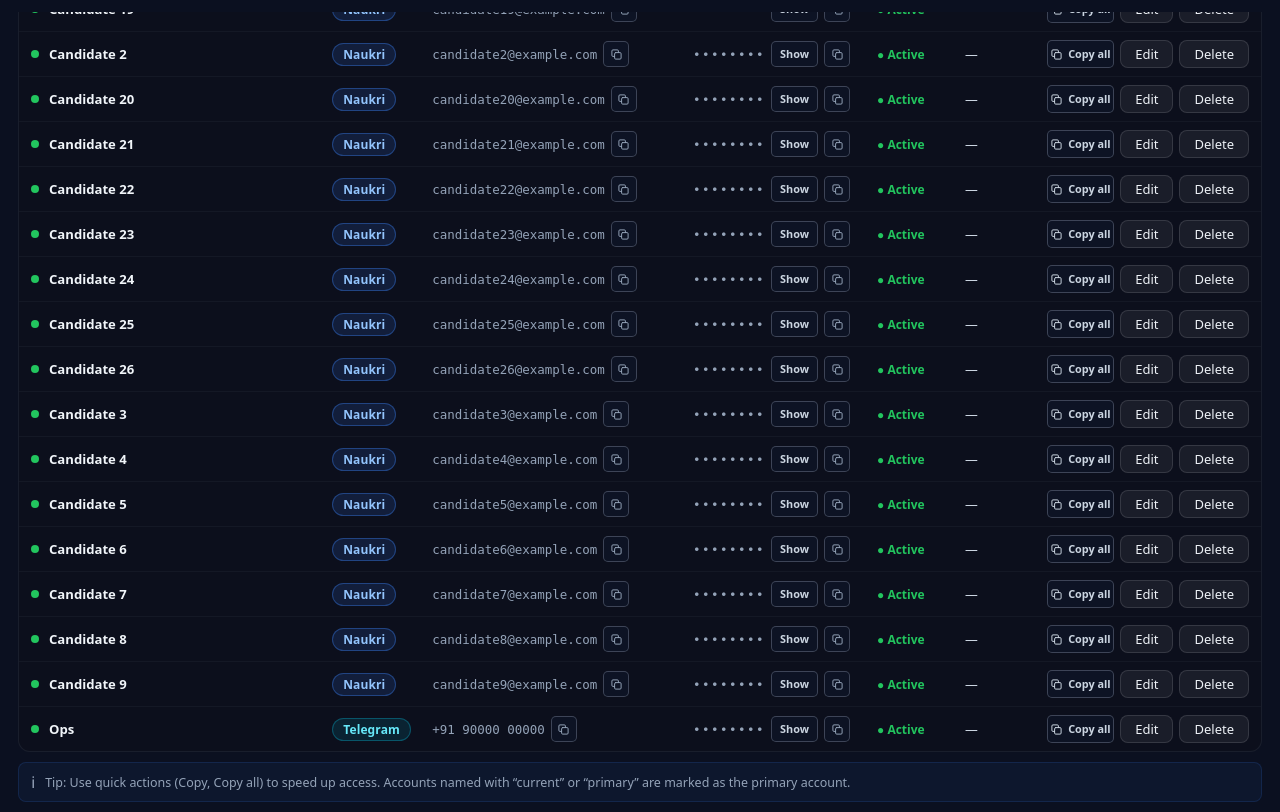
a service account row › keeps Show password, Copy all, Edit and Delete, and reads a password only when asked
This screenshot has width=1280, height=812.
(page scrolled)
Expected: the button named "Copy password" in the row of "Ops" is shown, [824,716,850,742]
Expected: the button "Copy all" in the row of "Ops" is shown, [1047,715,1114,743]
Click the button with aria-label "Show password for Ops": click(794, 729) [771,716,818,742]
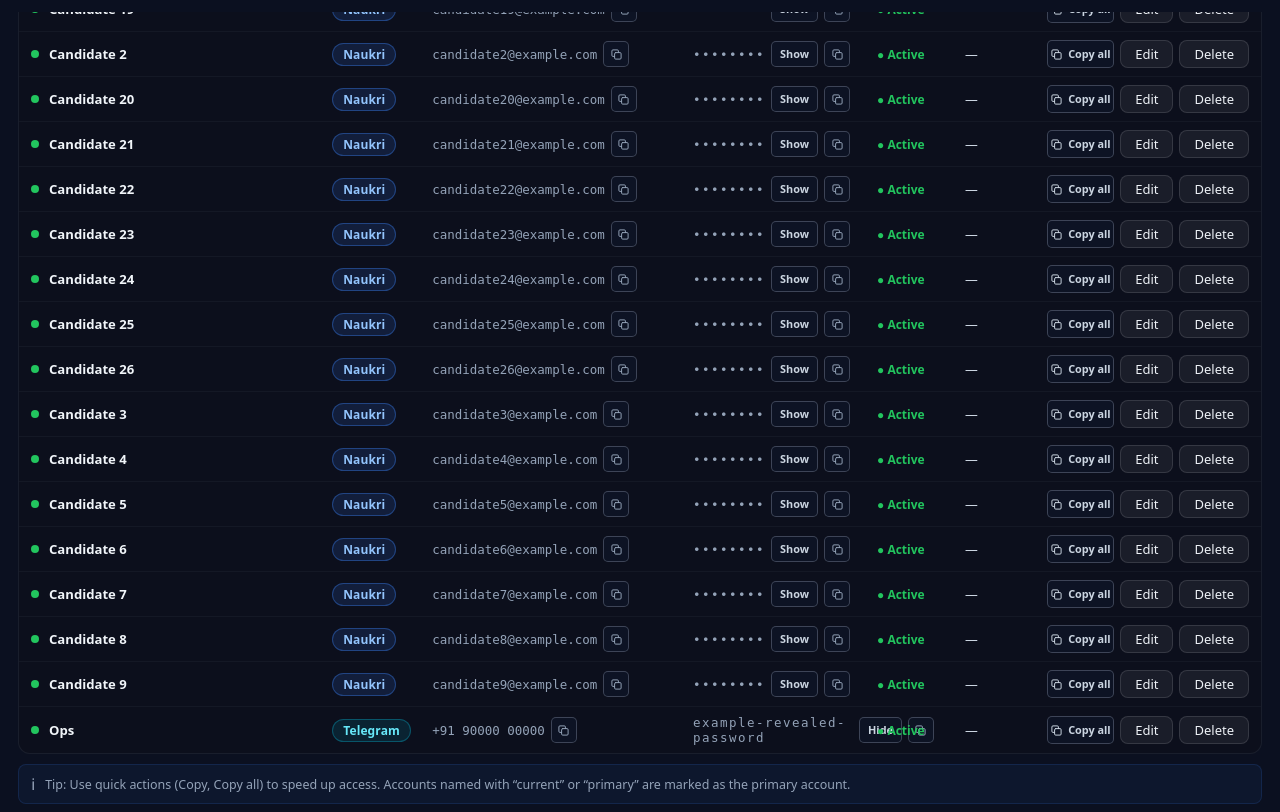
Result: the text "example-revealed-password" is shown at [693,715,853,745]
